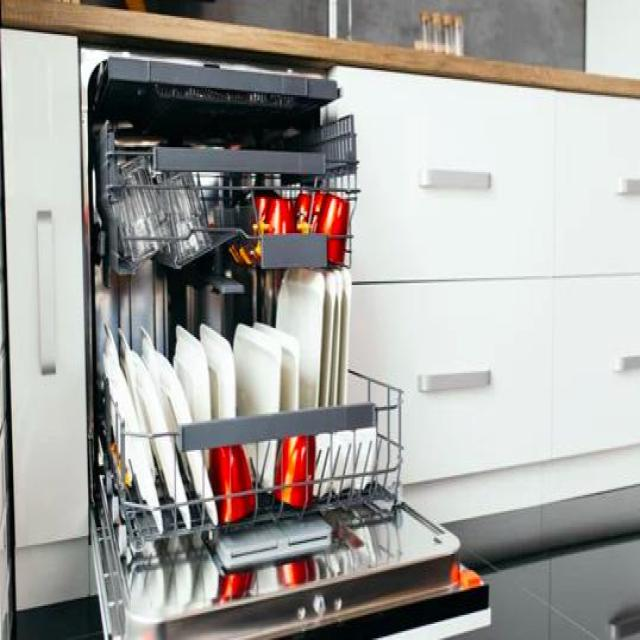dishwasher: (79, 41, 492, 638)
